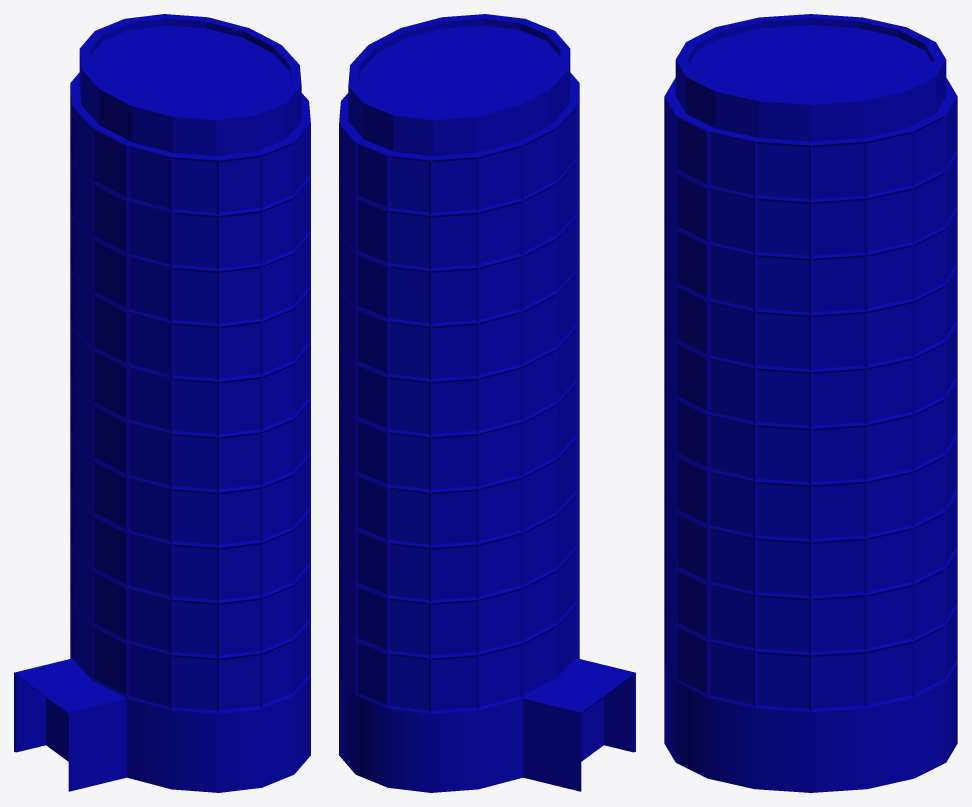
File: cylinderHighRise.FBX
The picture shows the model from 3 angles, left to right: view 1: azimuth 30°, elevation 25°; view 2: azimuth 150°, elevation 25°; view 3: azimuth 270°, elevation 25°; orthographic projection. The views are drawn at different scales.
Visible parts, largest first — view 1: highRiseWindows, highRise_Building; view 2: highRiseWindows, highRise_Building; view 3: highRiseWindows, highRise_Building.
Boxes of the visible parts, box(x1,y1,x2,y2) form: highRiseWindows: box(71, 101, 308, 710); highRise_Building: box(14, 14, 310, 792); highRiseWindows: box(341, 101, 578, 710); highRise_Building: box(339, 14, 635, 792); highRiseWindows: box(666, 100, 955, 708); highRise_Building: box(664, 14, 957, 792).
Bounding box in the file's own units: 12869 × 12867 × 33152.
